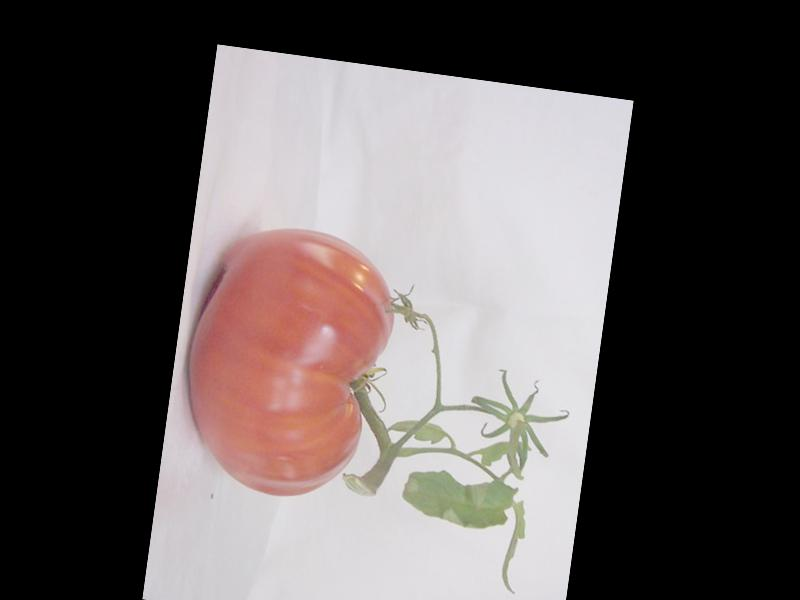Tomato: (171, 215, 403, 509)
